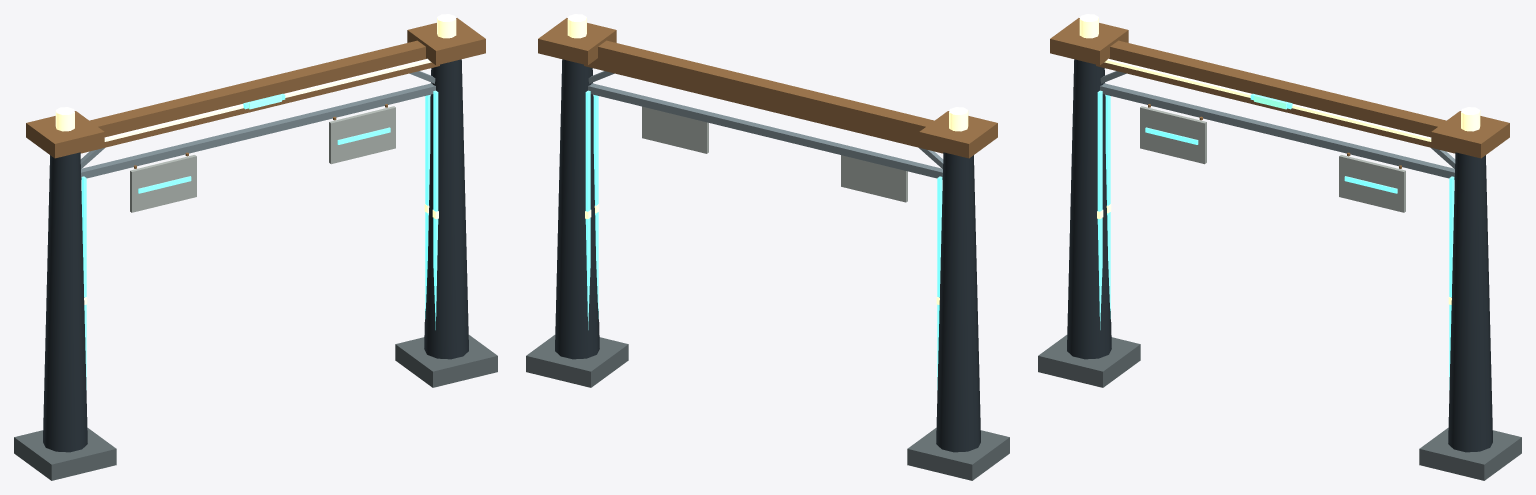
The model's file is neon-gate.lod2.glb.
3 views of the same model, side by side, from view 1: azimuth 30°, elevation 25°; view 2: azimuth 150°, elevation 25°; view 3: azimuth 330°, elevation 25° (orthographic).
Visible parts, largest first — view 1: structure; view 2: structure; view 3: structure.
Part boxes in pixels (<box>): structure: <box>14,14,497,480</box>; structure: <box>526,14,1009,480</box>; structure: <box>1038,14,1521,480</box>.
Bounding box in the file's own units: 10.3 × 7.68 × 1.5.
